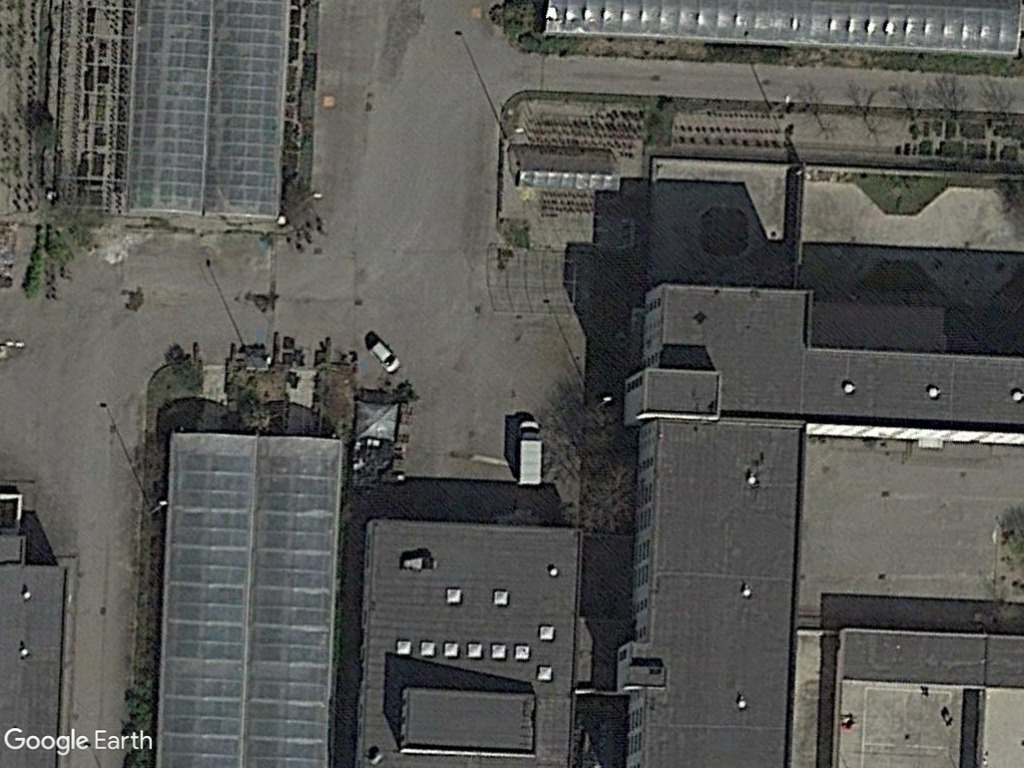car: (364, 337, 403, 376)
truck: (511, 414, 546, 490)
